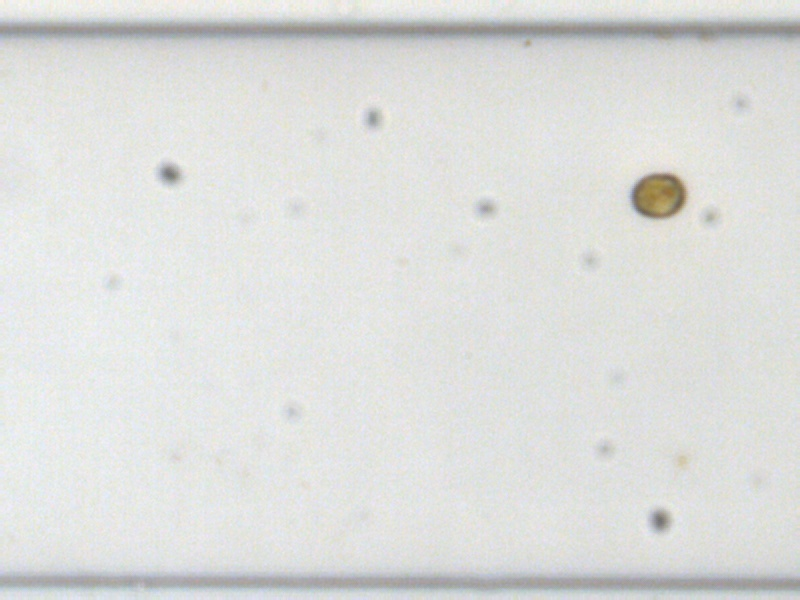Effrenium: (627, 169, 689, 221)
